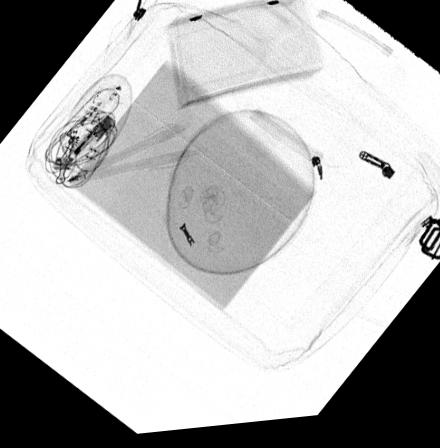Lighter: (47, 110, 116, 191)
